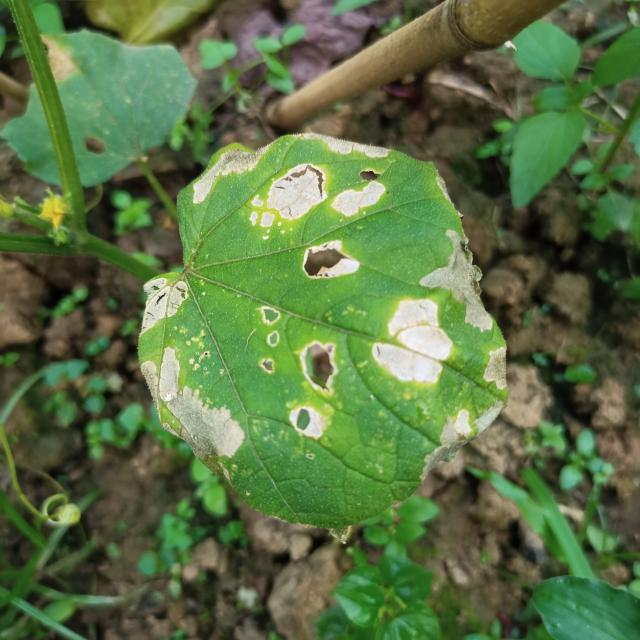disease_cucumber: (253, 240, 531, 464), (180, 134, 392, 282), (134, 270, 247, 486)
